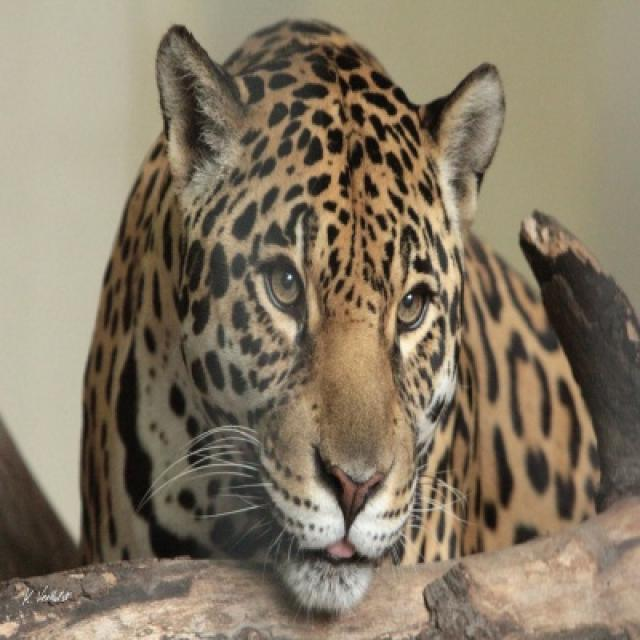Jaguar: (78, 19, 638, 619)
